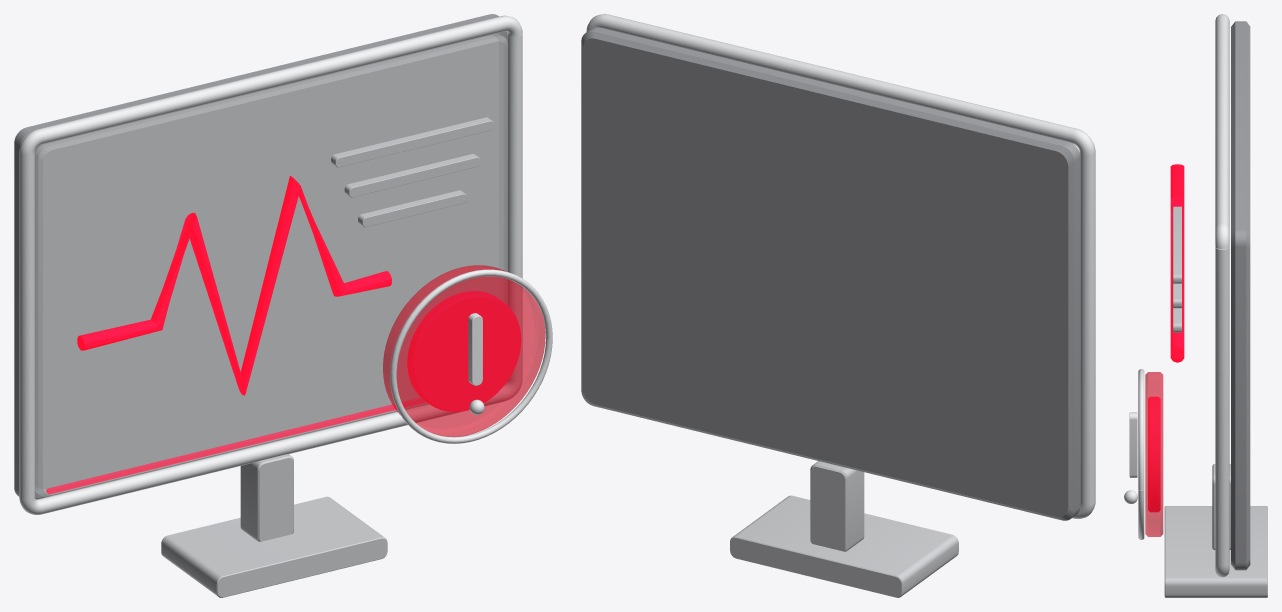
File: 24-monitoring.glb
3 views of the same model, side by side, from view 1: azimuth 30°, elevation 25°; view 2: azimuth 150°, elevation 25°; view 3: azimuth 270°, elevation 25° (orthographic). The views are drawn at different scales.
Visible parts, largest first — view 1: BC brushed iron, BC clear optical glass, BC polished iron bevel, BC satin iron, BC internal ruby light, BC ruby optical glass; view 2: BC brushed iron, BC satin iron, BC polished iron bevel; view 3: BC brushed iron, BC polished iron bevel, BC satin iron, BC internal ruby light, BC ruby optical glass.
Part boxes in pixels (x1,y1,x2,y2): BC brushed iron: (14,14,506,499); BC clear optical glass: (35,33,507,497); BC polished iron bevel: (19,15,552,514); BC satin iron: (161,117,493,597); BC internal ruby light: (46,176,521,494); BC ruby optical glass: (383,265,545,436); BC brushed iron: (581,27,1080,520); BC satin iron: (730,461,958,597); BC polished iron bevel: (586,14,1095,518); BC brushed iron: (1231,21,1250,570); BC polished iron bevel: (1124,14,1229,577); BC satin iron: (1164,206,1267,597); BC internal ruby light: (1148,164,1184,512); BC ruby optical glass: (1145,372,1163,536).
Bounding box in the file's own units: 2.06 × 1.89 × 0.557.
